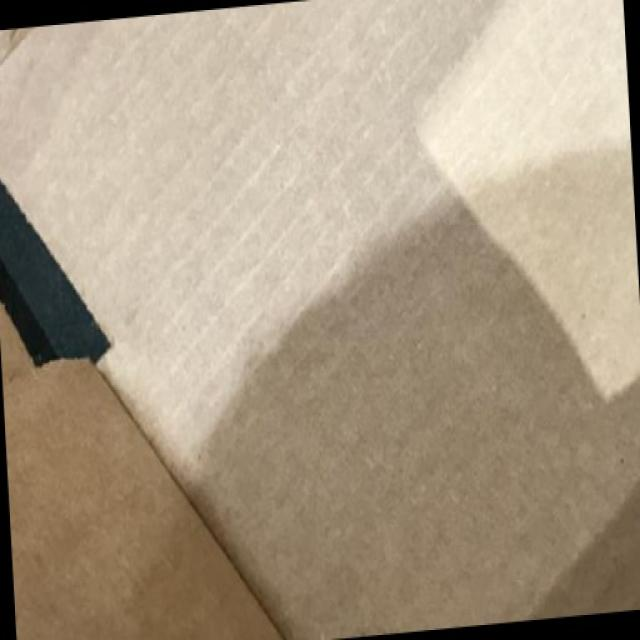carton: (12, 13, 640, 627)
